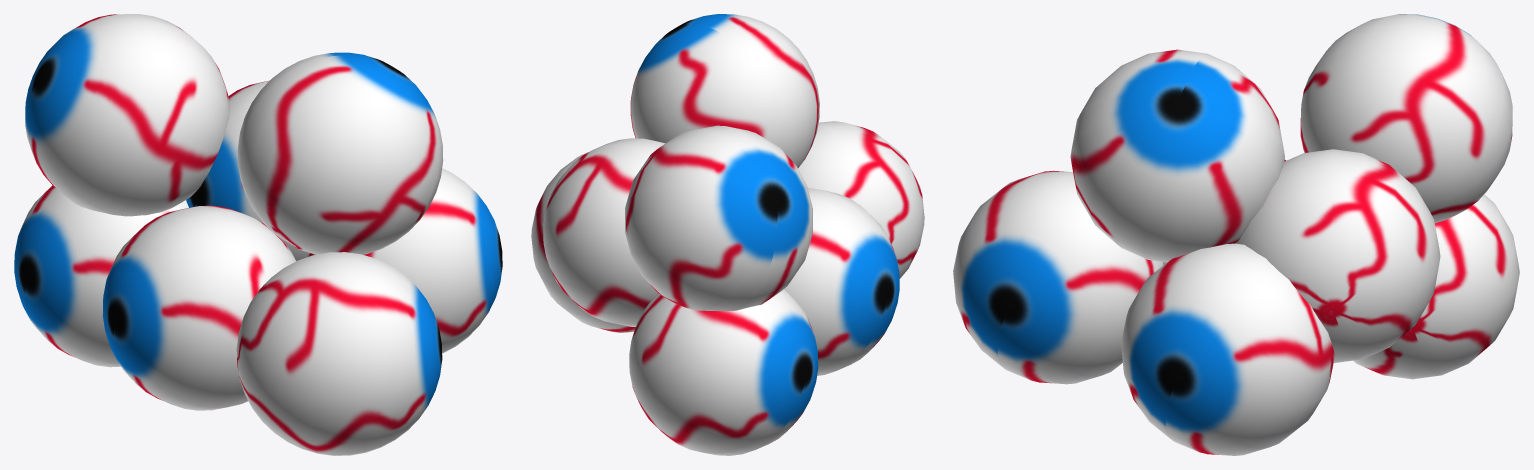
Rendered from FrogEyes.fbx.
3 renders of one model, left to right at view 1: azimuth 30°, elevation 25°; view 2: azimuth 150°, elevation 25°; view 3: azimuth 270°, elevation 25°, orthographic. The views are drawn at different scales.
Parts seen in each view (by area): view 1: group3_pasted__pSphere1; view 2: group3_pasted__pSphere1; view 3: group3_pasted__pSphere1.
Boxes of the visible parts, x1=… form: group3_pasted__pSphere1: x1=14, y1=14, x2=502, y2=455; group3_pasted__pSphere1: x1=531, y1=14, x2=924, y2=455; group3_pasted__pSphere1: x1=953, y1=14, x2=1519, y2=455.
Bounding box in the file's own units: 1.99 × 1.8 × 2.52.
